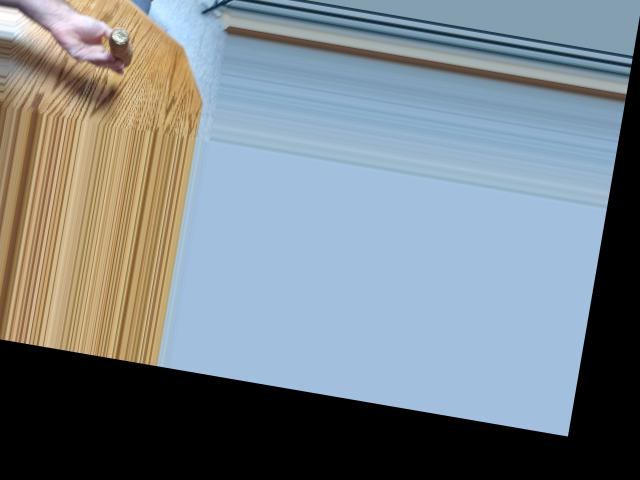sweet_potato: (98, 20, 138, 69)
